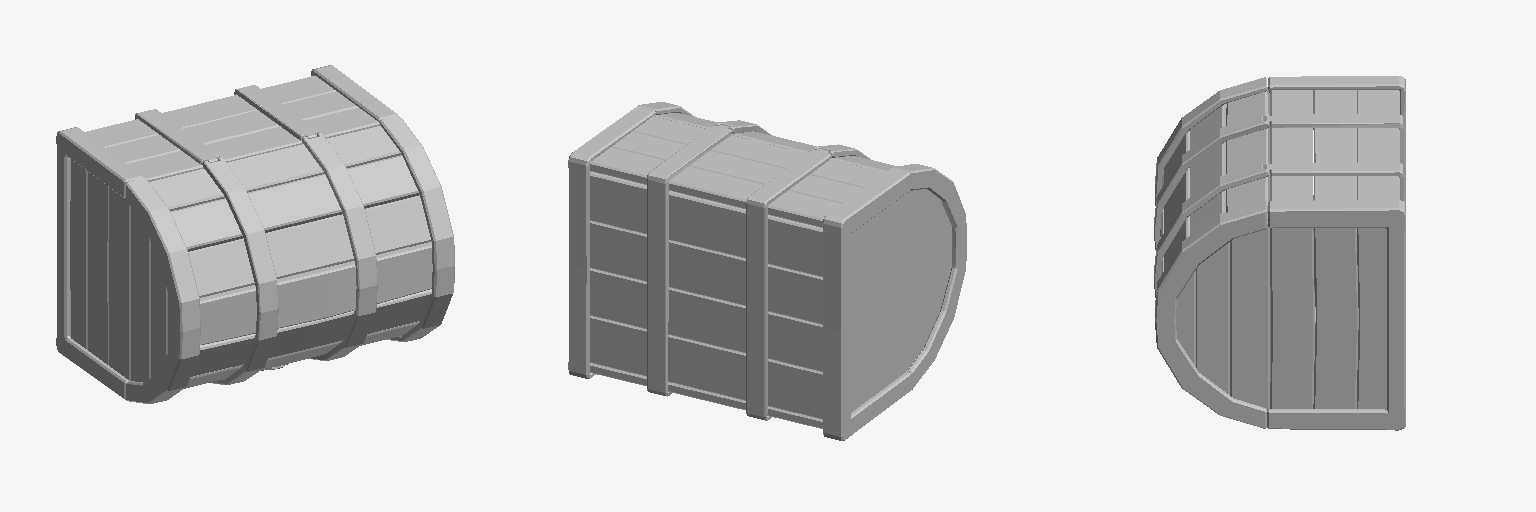
Rendered from Renaissance_Chest.obj.
The picture shows the model from 3 angles: view 1: azimuth 30°, elevation 25°; view 2: azimuth 150°, elevation 25°; view 3: azimuth 270°, elevation 25°; orthographic projection.
Parts seen in each view (by area): view 1: MonasteryChestLid01, MonasteryChest01; view 2: MonasteryChest01, MonasteryChestLid01; view 3: MonasteryChest01, MonasteryChestLid01.
Part boxes in pixels (x1,y1,x2,y2): MonasteryChestLid01: (126, 116, 454, 403); MonasteryChest01: (56, 65, 397, 399); MonasteryChest01: (568, 106, 910, 440); MonasteryChestLid01: (638, 102, 966, 389); MonasteryChest01: (1265, 76, 1405, 430); MonasteryChestLid01: (1154, 77, 1269, 428).
Size of the model in its own units: 0.9043 by 0.7176 by 0.7198.